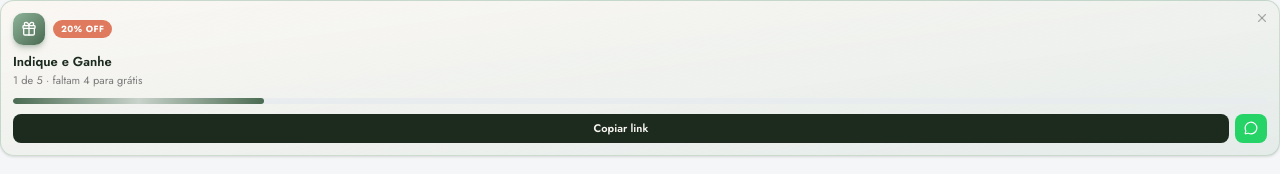
Test: ReferralSidebarCard › copies the referral link from the card and confirms it
Click the button "Copiar link" at (621, 128), box [13,114,1229,142]
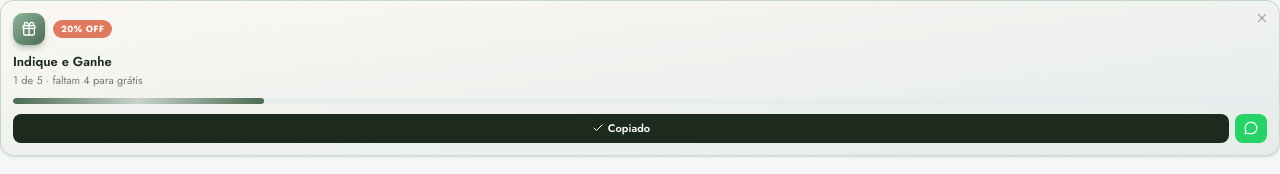
Now the button "Copiado" is shown, box [13,114,1229,142]
